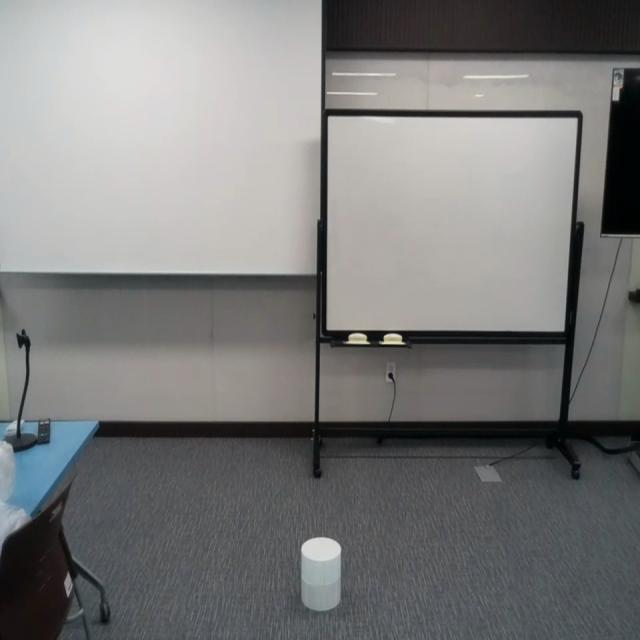cylinder: (300, 536, 341, 612)
